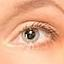eye: (22, 28, 40, 43)
